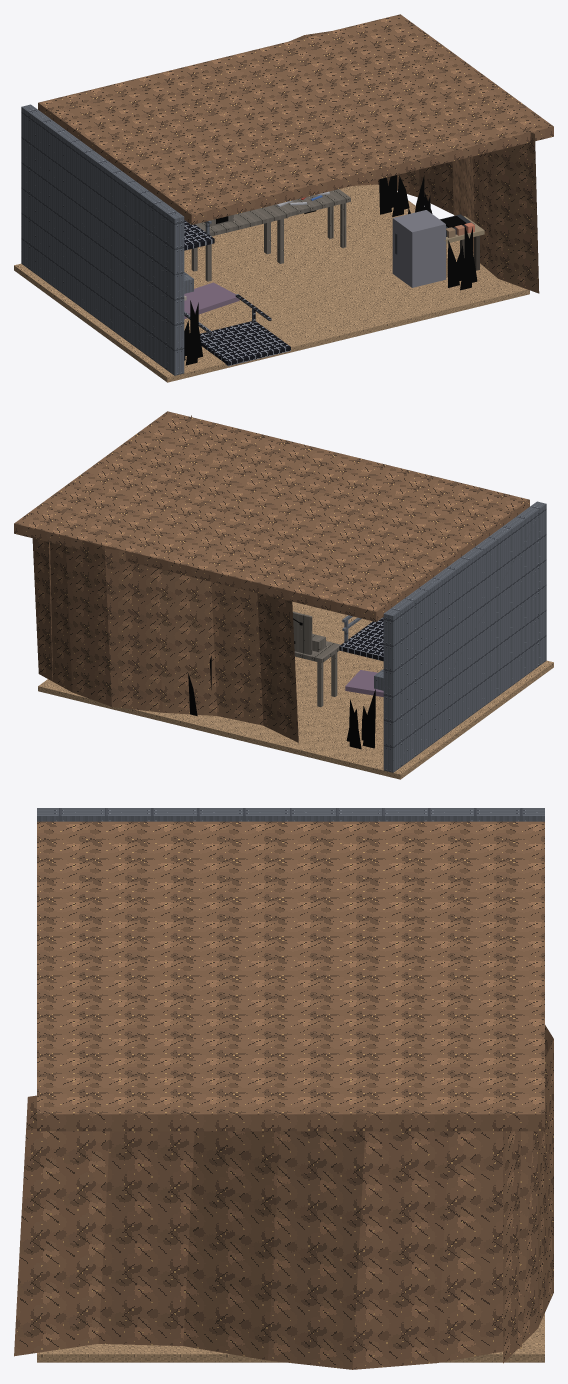
File: endo-junction.obj
3 renders of one model, top to bottom at view 1: azimuth 30°, elevation 25°; view 2: azimuth 150°, elevation 25°; view 3: azimuth 270°, elevation 25°, orthographic. The views are drawn at different scales.
Visible parts, largest first — view 1: Junction_Ceiling, Junction_Floor, Fac_Wall, Junction_RockRight, Junction_Fridge, Junction_Hatch, Junction_Bedroll, Junction_Workbench_top, Junction_Toolbench_top, Fac_Catwalk, Fr_5_3, Fr_2_3; view 2: Junction_Ceiling, Junction_RockBack, Fac_Wall, Junction_Floor, Fac_Catwalk, WB_board, Junction_Bedroll, Fr_6_2, Junction_Workbench_top; view 3: Junction_Ceiling, Junction_RockRight, Junction_RockBack, Fac_Wall, Junction_Floor.
Boxes of the visible parts, x1,y1,x2,y2 form: Junction_Ceiling: (38,14,553,224); Junction_Floor: (14,184,529,382); Fac_Wall: (21,104,184,375); Junction_RockRight: (378,132,539,293); Junction_Fridge: (392,210,445,287); Junction_Hatch: (200,321,290,366); Junction_Bedroll: (184,282,239,319); Junction_Workbench_top: (195,204,288,236); Junction_Toolbench_top: (267,189,350,216); Fac_Catwalk: (184,220,214,250); Fr_5_3: (185,302,198,365); Fr_2_3: (460,227,472,290); Junction_Ceiling: (14,411,529,621); Junction_RockBack: (32,538,298,742); Fac_Wall: (383,501,546,772); Junction_Floor: (38,601,553,779); Fac_Catwalk: (339,617,383,661); WB_board: (293,611,312,654); Junction_Bedroll: (345,670,383,696); Fr_6_2: (362,689,375,748); Junction_Workbench_top: (294,641,340,663); Junction_Ceiling: (37,821,544,1131); Junction_RockRight: (14,1095,533,1369); Junction_RockBack: (503,1025,553,1363); Fac_Wall: (37,808,544,821); Junction_Floor: (37,1313,544,1362).
Bounding box in the file's own units: 16 × 6.4 × 11.7.
Materials: 23 (5 with a texture image).
